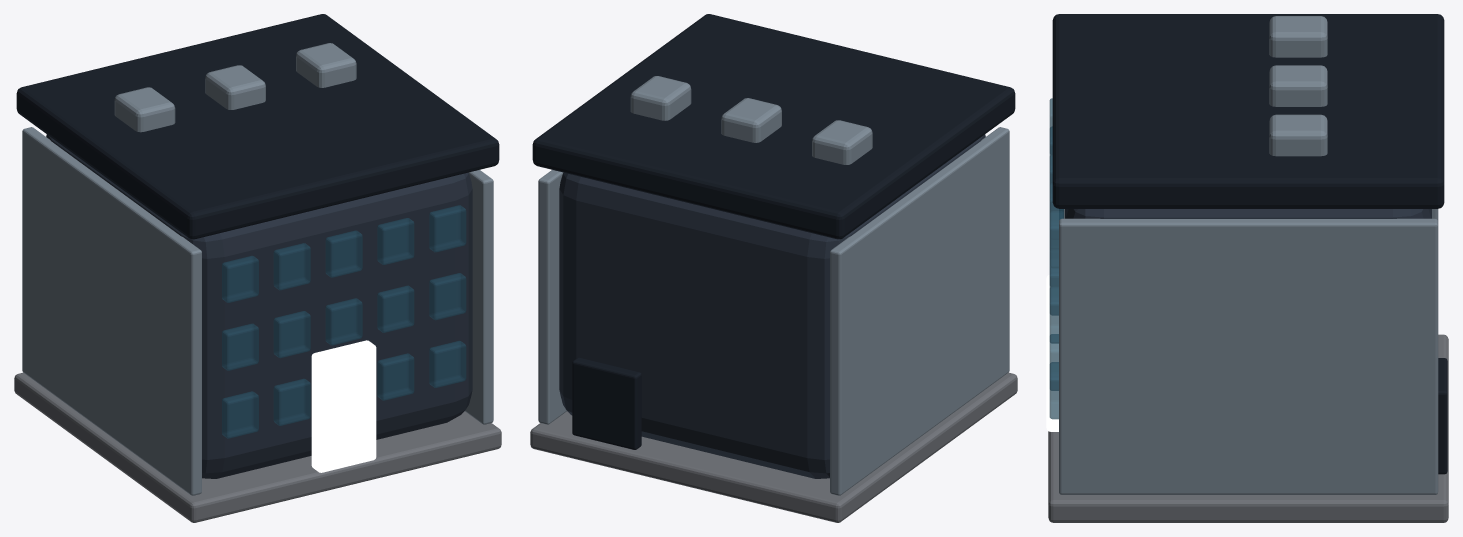
File: arch_storefront_frame_a_v01.glb
The picture shows the model from 3 angles, left to right: view 1: azimuth 30°, elevation 25°; view 2: azimuth 150°, elevation 25°; view 3: azimuth 270°, elevation 25°; orthographic projection. The views are drawn at different scales.
Visible parts, largest first — view 1: component__primary_massing__primary_massing, component__roof_line__roof_line, component__facade_material_breaks__facade_break.001, component__foundation__foundation, component__entrance__entrance, component__facade_material_breaks__facade_break, component__roof_line__rooftop_service.001, component__roof_line__rooftop_service.002, component__roof_line__rooftop_service, component__window_system__window.004, component__window_system__window.008, component__window_system__window.009 (+11 smaller); view 2: component__primary_massing__primary_massing, component__roof_line__roof_line, component__facade_material_breaks__facade_break.001, component__foundation__foundation, component__facade_material_breaks__facade_break, component__service_side__service_side, component__roof_line__rooftop_service, component__roof_line__rooftop_service.001, component__roof_line__rooftop_service.002; view 3: component__facade_material_breaks__facade_break, component__roof_line__roof_line, component__foundation__foundation, component__primary_massing__primary_massing, component__roof_line__rooftop_service, component__roof_line__rooftop_service.002, component__roof_line__rooftop_service.001, component__entrance__entrance, component__service_side__service_side, component__window_system__window, component__window_system__window.010, component__window_system__window.005 (+2 smaller).
Part boxes in pixels (x1=…): component__primary_massing__primary_massing: x1=46, y1=134, x2=472, y2=478; component__roof_line__roof_line: x1=16, y1=14, x2=499, y2=239; component__facade_material_breaks__facade_break.001: x1=22, y1=127, x2=201, y2=495; component__foundation__foundation: x1=14, y1=372, x2=501, y2=522; component__entrance__entrance: x1=311, y1=340, x2=376, y2=472; component__facade_material_breaks__facade_break: x1=465, y1=170, x2=493, y2=424; component__roof_line__rooftop_service.001: x1=114, y1=87, x2=175, y2=132; component__roof_line__rooftop_service.002: x1=205, y1=65, x2=265, y2=109; component__roof_line__rooftop_service: x1=296, y1=43, x2=356, y2=87; component__window_system__window.004: x1=377, y1=353, x2=414, y2=400; component__window_system__window.008: x1=325, y1=298, x2=362, y2=345; component__window_system__window.009: x1=377, y1=285, x2=414, y2=332; component__primary_massing__primary_massing: x1=559, y1=134, x2=985, y2=478; component__roof_line__roof_line: x1=532, y1=14, x2=1015, y2=239; component__facade_material_breaks__facade_break.001: x1=830, y1=127, x2=1009, y2=495; component__foundation__foundation: x1=530, y1=372, x2=1017, y2=522; component__facade_material_breaks__facade_break: x1=538, y1=170, x2=566, y2=424; component__service_side__service_side: x1=572, y1=357, x2=641, y2=449; component__roof_line__rooftop_service: x1=630, y1=76, x2=691, y2=120; component__roof_line__rooftop_service.001: x1=812, y1=120, x2=872, y2=164; component__roof_line__rooftop_service.002: x1=721, y1=98, x2=781, y2=142; component__facade_material_breaks__facade_break: x1=1059, y1=218, x2=1438, y2=494; component__roof_line__roof_line: x1=1052, y1=14, x2=1444, y2=208; component__foundation__foundation: x1=1048, y1=334, x2=1448, y2=522; component__primary_massing__primary_massing: x1=1065, y1=209, x2=1431, y2=218; component__roof_line__rooftop_service: x1=1269, y1=114, x2=1327, y2=156; component__roof_line__rooftop_service.002: x1=1269, y1=65, x2=1327, y2=106; component__roof_line__rooftop_service.001: x1=1269, y1=16, x2=1327, y2=57; component__entrance__entrance: x1=1046, y1=275, x2=1058, y2=431; component__service_side__service_side: x1=1438, y1=358, x2=1447, y2=474; component__window_system__window: x1=1049, y1=211, x2=1063, y2=268; component__window_system__window.010: x1=1049, y1=286, x2=1058, y2=343; component__window_system__window.005: x1=1049, y1=362, x2=1058, y2=419.
Size of the model in its own units: 1.44 by 1.45 by 1.45.
